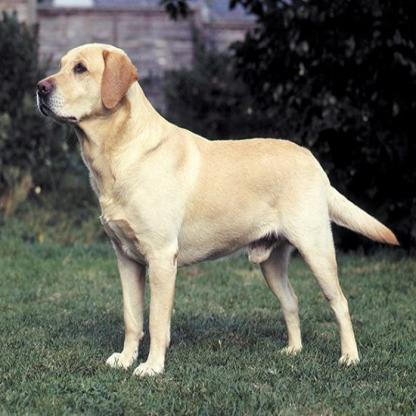dog: (35, 47, 396, 378)
